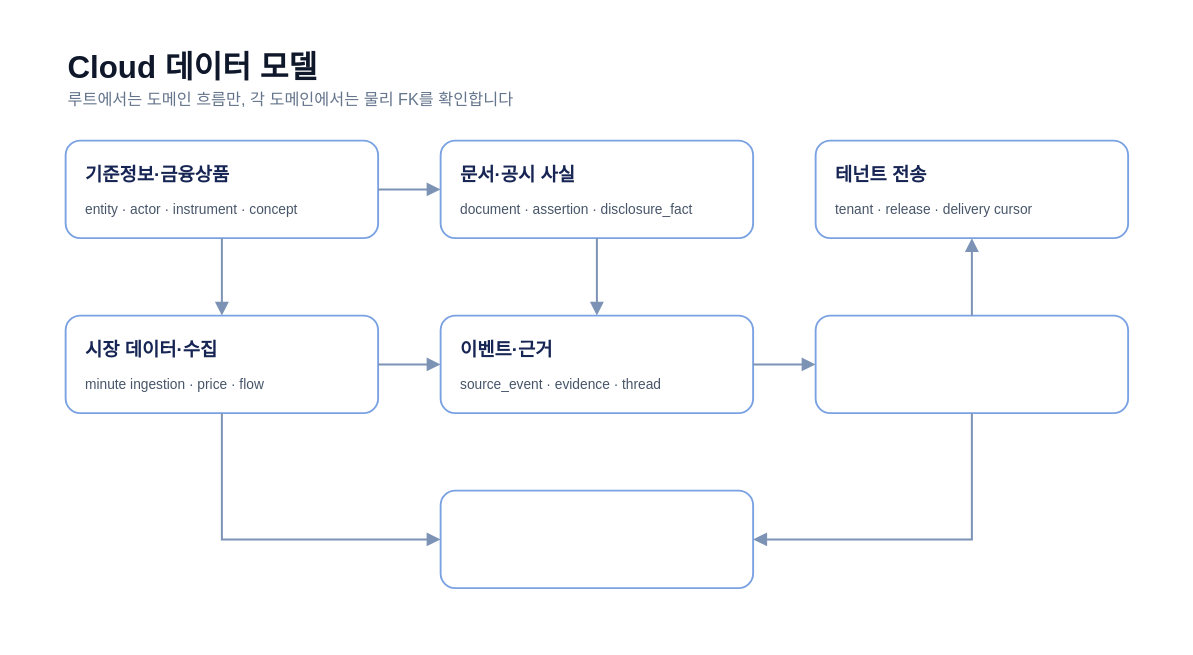
Image size: 1193x655. Some labels were removed from this diagram. Each missing label, with the centre of its shape:
"설명 생성·계보 route · run · result · lineage" belongs at point (971, 364).
"운영 원장 task · reconciliation · admin audit" belongs at point (596, 538).
